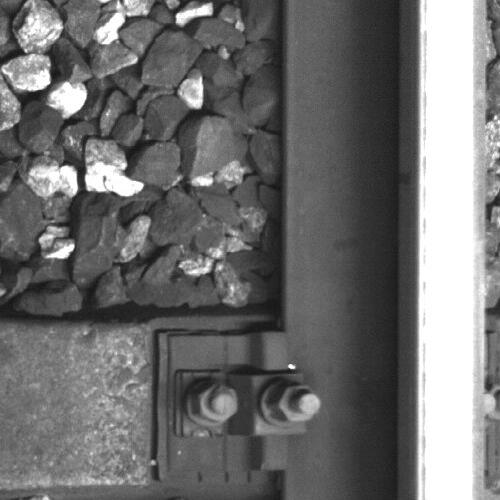kb: (167, 334, 321, 471)
nut: (267, 382, 322, 426), (190, 380, 238, 424)
rail: (417, 1, 484, 500)
tie_concr: (1, 324, 282, 489)
